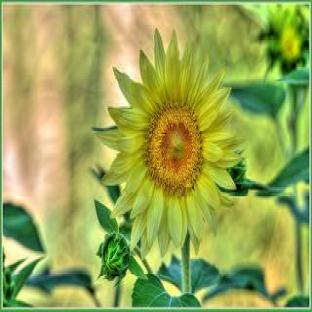sunflower: (91, 31, 244, 296)
